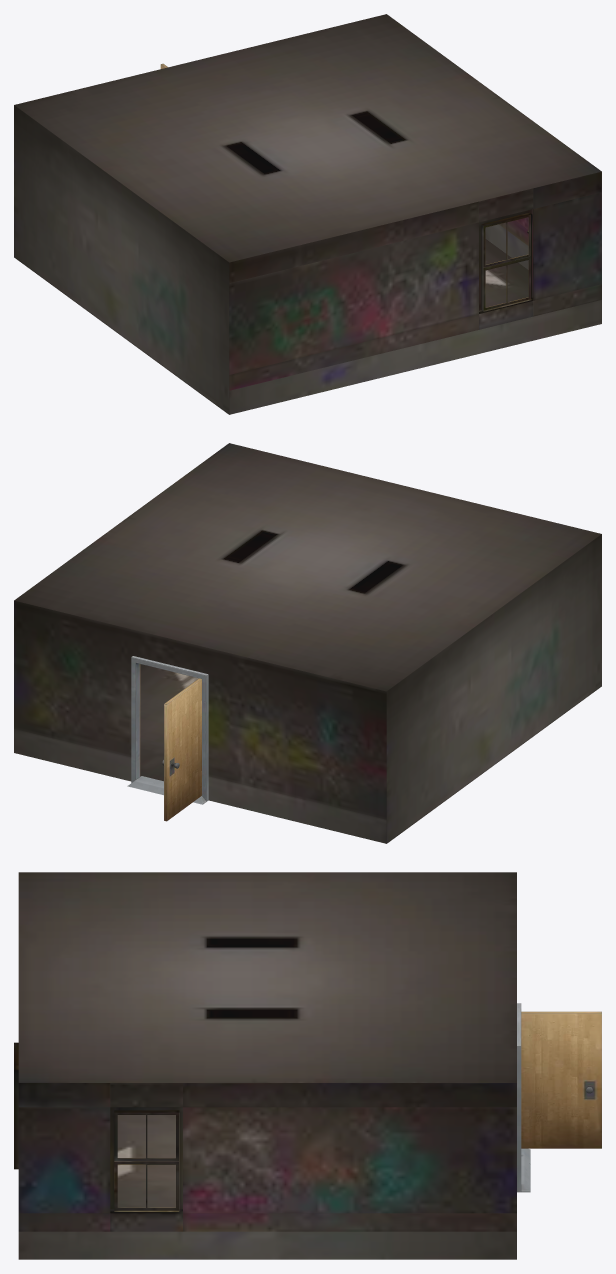
File: hospital_room.glb
3 views of the same model, one above another, from view 1: azimuth 30°, elevation 25°; view 2: azimuth 150°, elevation 25°; view 3: azimuth 270°, elevation 25° (orthographic). The views are drawn at different scales.
Parts seen in each view (by area): view 1: Object_2; view 2: Object_2, Cube009_Baked002_0, Object_7; view 3: Object_2, Cube009_Baked002_0, Object_7.
Boxes of the visible parts, x1,y1,x2,y2 form: Object_2: (14, 14, 601, 414); Object_2: (14, 443, 601, 843); Cube009_Baked002_0: (162, 678, 201, 821); Object_7: (127, 656, 208, 804); Object_2: (14, 872, 516, 1259); Cube009_Baked002_0: (521, 1011, 601, 1148); Object_7: (517, 1003, 530, 1192).
Size of what is drawn, in the model's own units: 9.96 by 3.85 by 11.64.
Materials: 2 (2 with a texture image).
